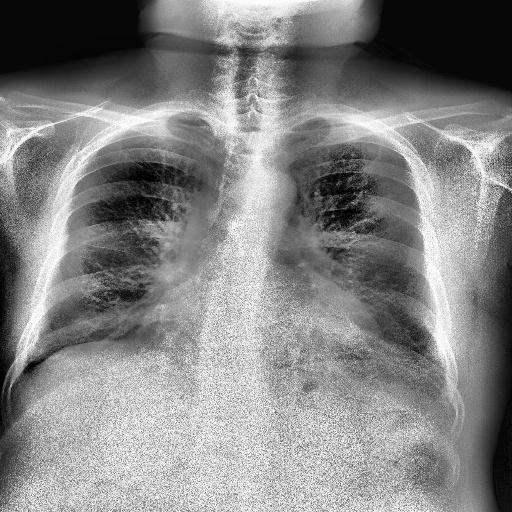0- Aortic enlargement: (241, 167, 298, 209)
11- Pleural thickening: (160, 107, 206, 122), (306, 115, 346, 120)
3- Cardiomegaly: (150, 276, 384, 360), (140, 290, 388, 368), (140, 308, 384, 366)
